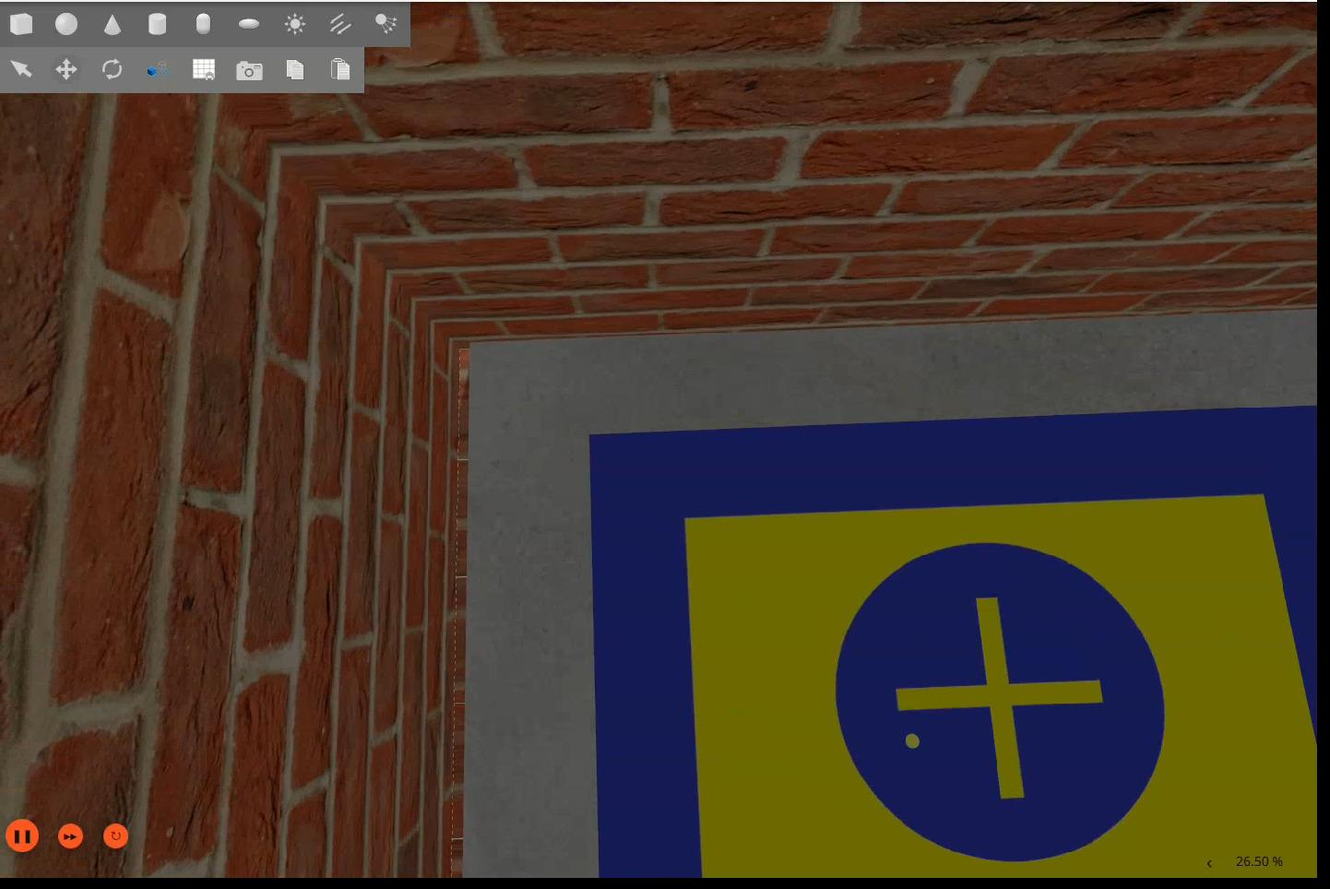large_base: (588, 409, 1320, 884)
